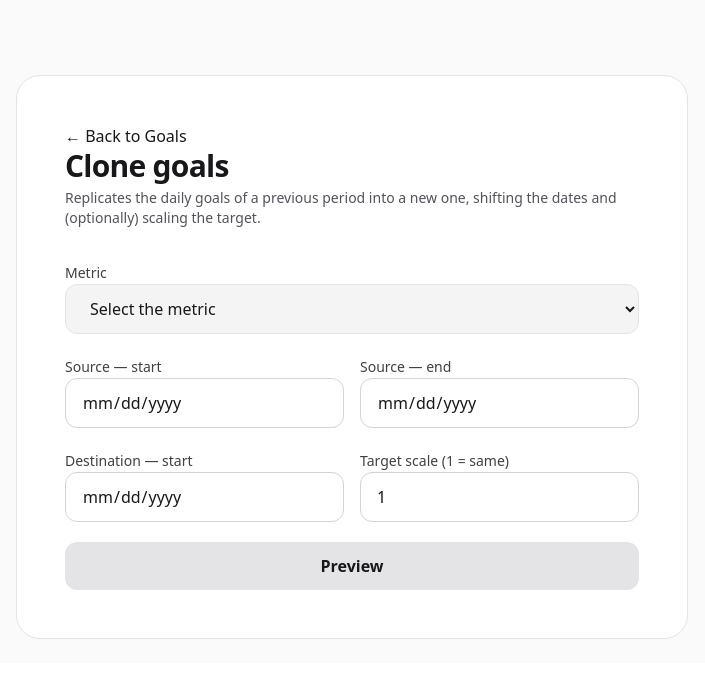
Test case: ClonarMetas › confirma a clonagem e mostra o resultado
The image size is (705, 700).
Select "Receita (daily)" in the dropdown named "metric_id": coordinates (352, 309) [65, 284, 639, 334]
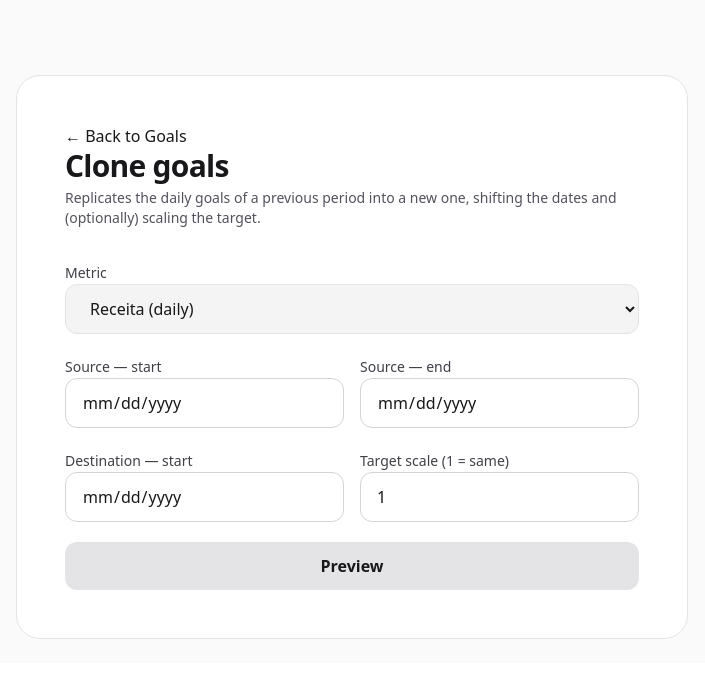
In the date field named "origem_inicio" below "Source — start": coordinates (204, 403) [65, 378, 344, 428], type "2026-07-01"
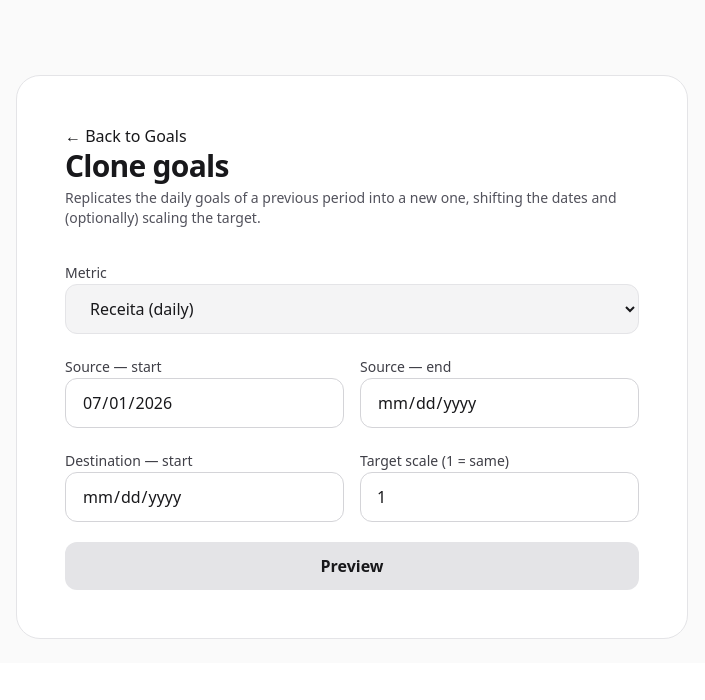
In the date field named "origem_fim" below "Source — end": coordinates (500, 403) [360, 378, 639, 428], type "2026-07-04"
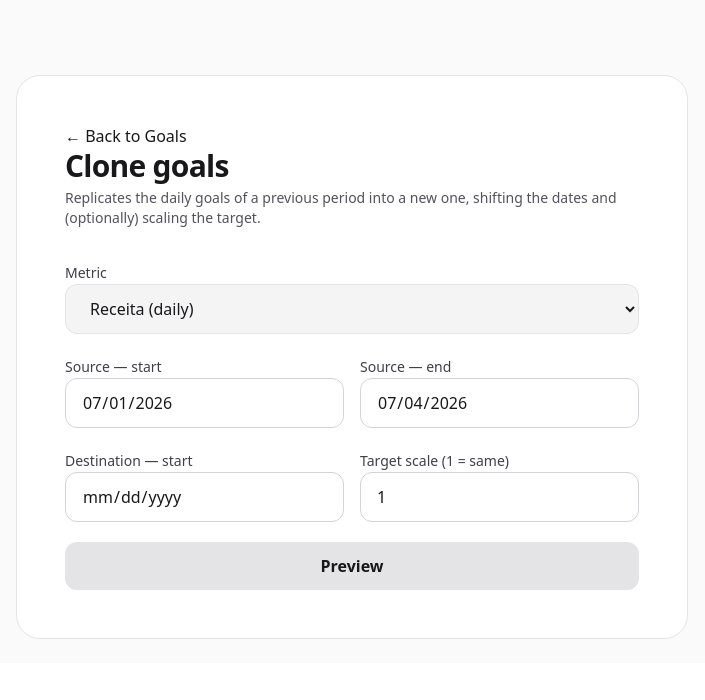
In the date field named "destino_inicio" below "Destination — start": coordinates (204, 497) [65, 472, 344, 522], type "2026-08-01"
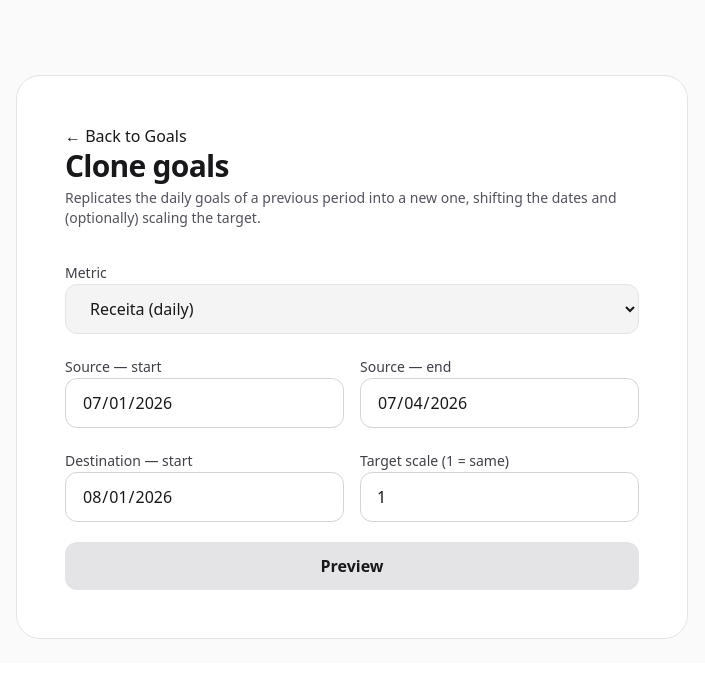
Click the button "Preview": coordinates (352, 566) [65, 542, 639, 590]
(page scrolled)
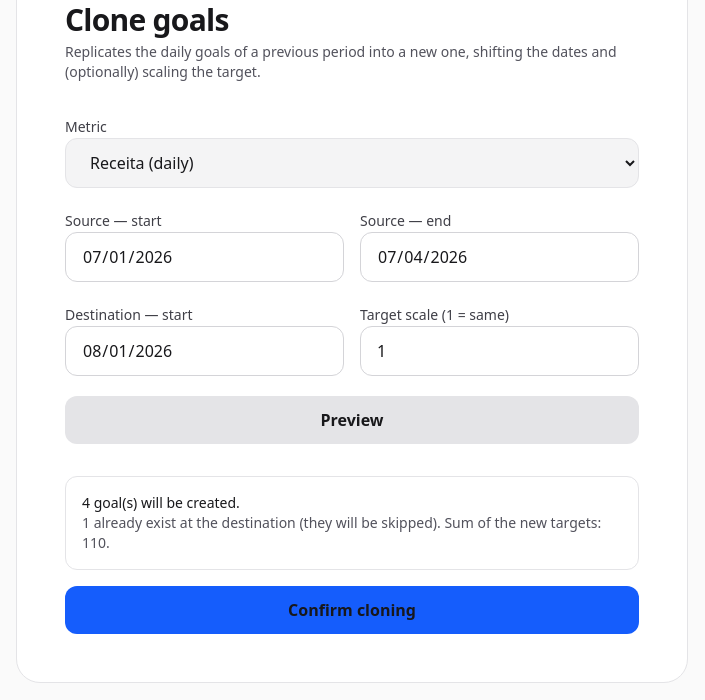
Click the button "Confirm cloning": coordinates (352, 610) [65, 586, 639, 634]
(page scrolled)
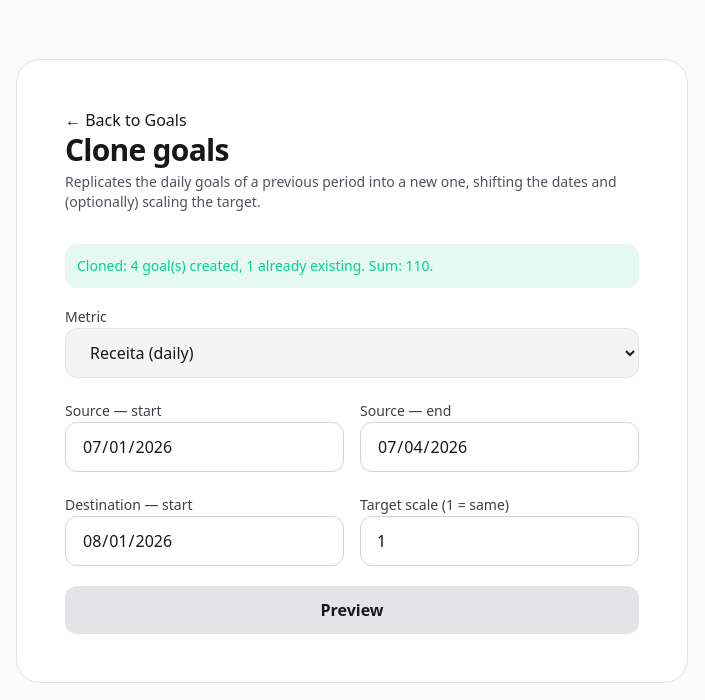
Now the text "Cloned: 4 goal(s) created, 1 already existing. Sum: 110." is shown, box [65, 244, 639, 288]
